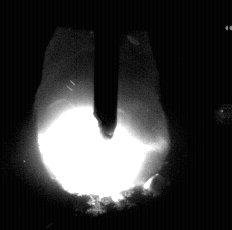arame: (94, 0, 119, 139)
poca: (37, 0, 172, 230)
